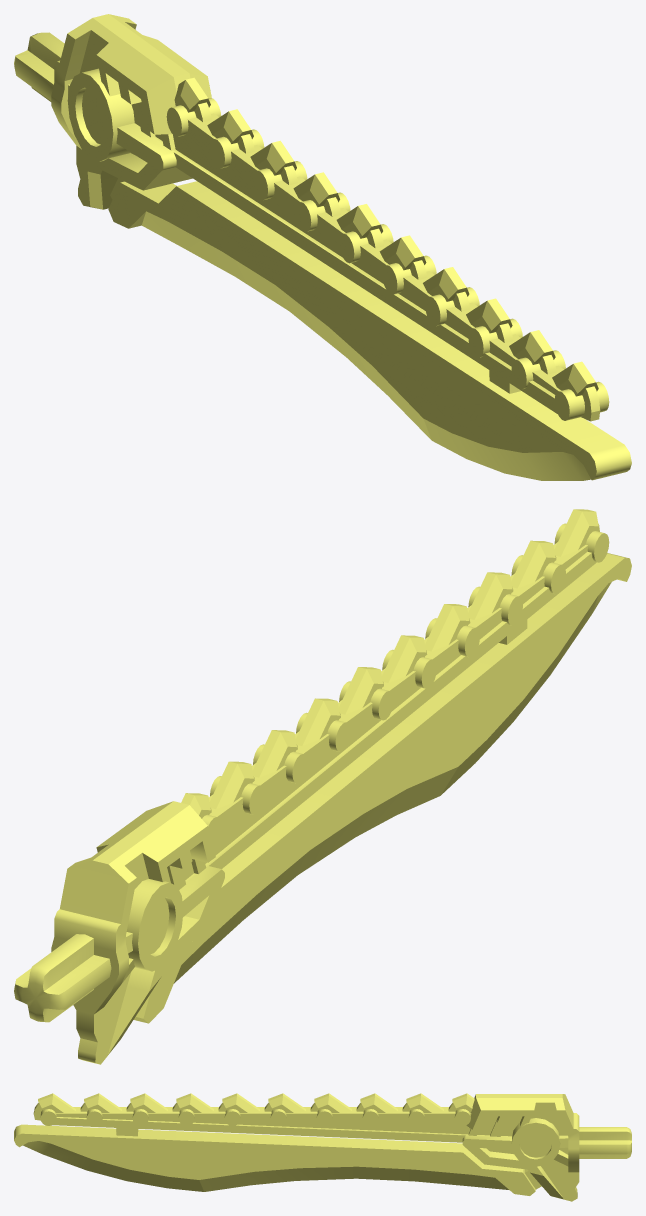
3 renders of one model, top to bottom at view 1: azimuth 30°, elevation 25°; view 2: azimuth 150°, elevation 25°; view 3: azimuth 270°, elevation 25°, orthographic. The views are drawn at different scales.
Parts seen in each view (by area): view 1: 98568.dat; view 2: 98568.dat; view 3: 98568.dat.
Part boxes in pixels (x1,y1,x2,y2): 98568.dat: (14,14,631,480); 98568.dat: (14,509,631,1064); 98568.dat: (14,1093,631,1201).
Size of the model in its own units: 0.0064 by 0.0171 by 0.0913.
